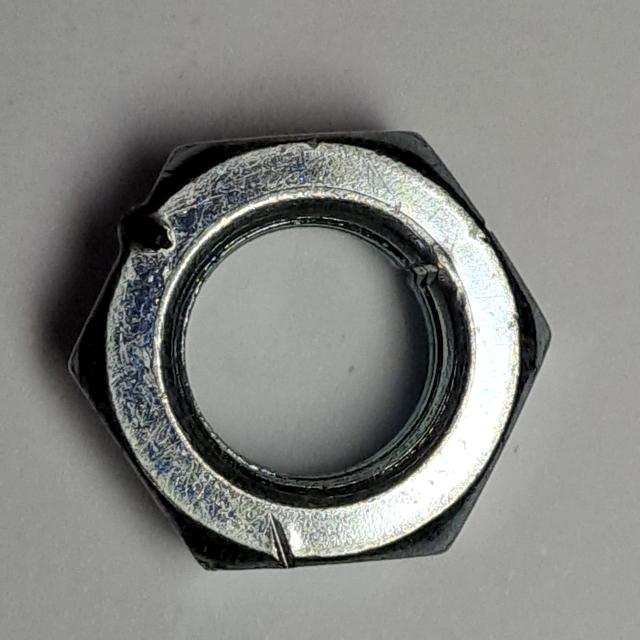Scratches: (59, 115, 566, 585)
